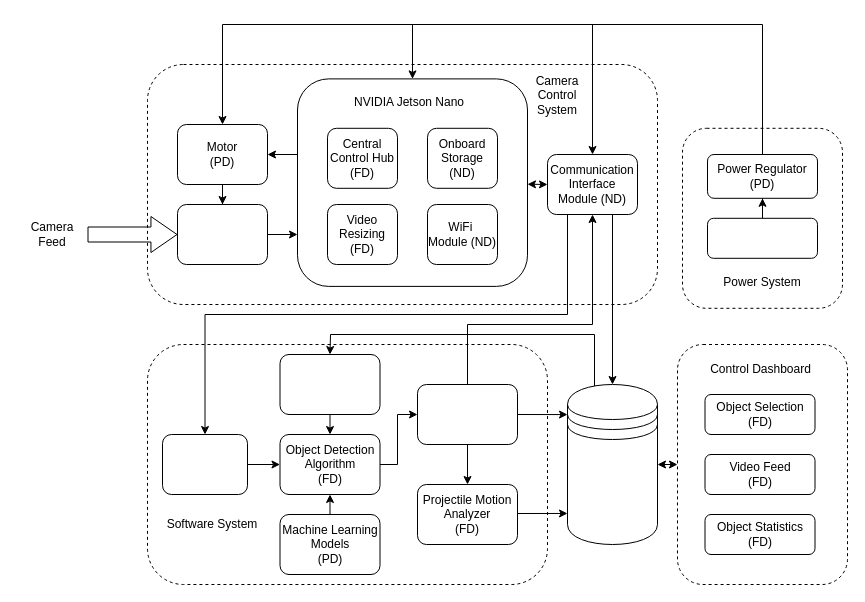
This 865x602 diagram has some shape labels left out. Each missing label, with the centre of its shape:
Battery (ND): the point at 762,237
Camera (ND): the point at 222,234
Motion Estimation Module (FD): the point at 467,414
Noise Filtering (FD): the point at 205,464
Object Recognition Decision Tree (FD): the point at 329,384
Online Cloud Storage (PD): the point at 612,464
